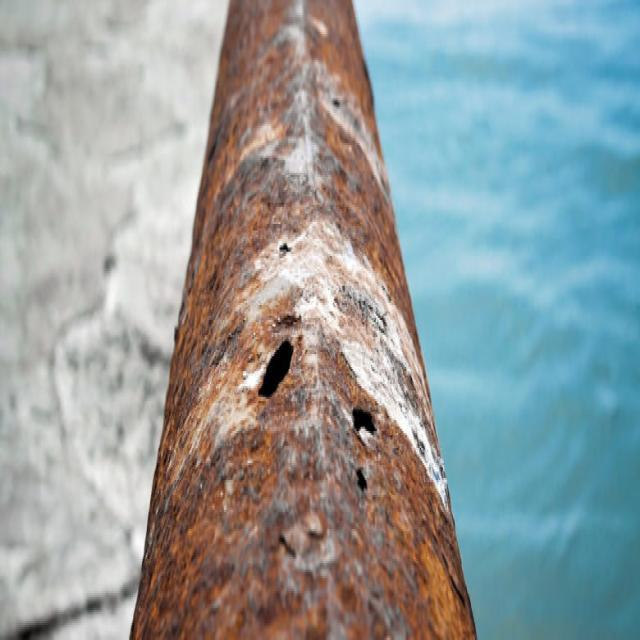Dry Waste: (158, 0, 468, 640)
